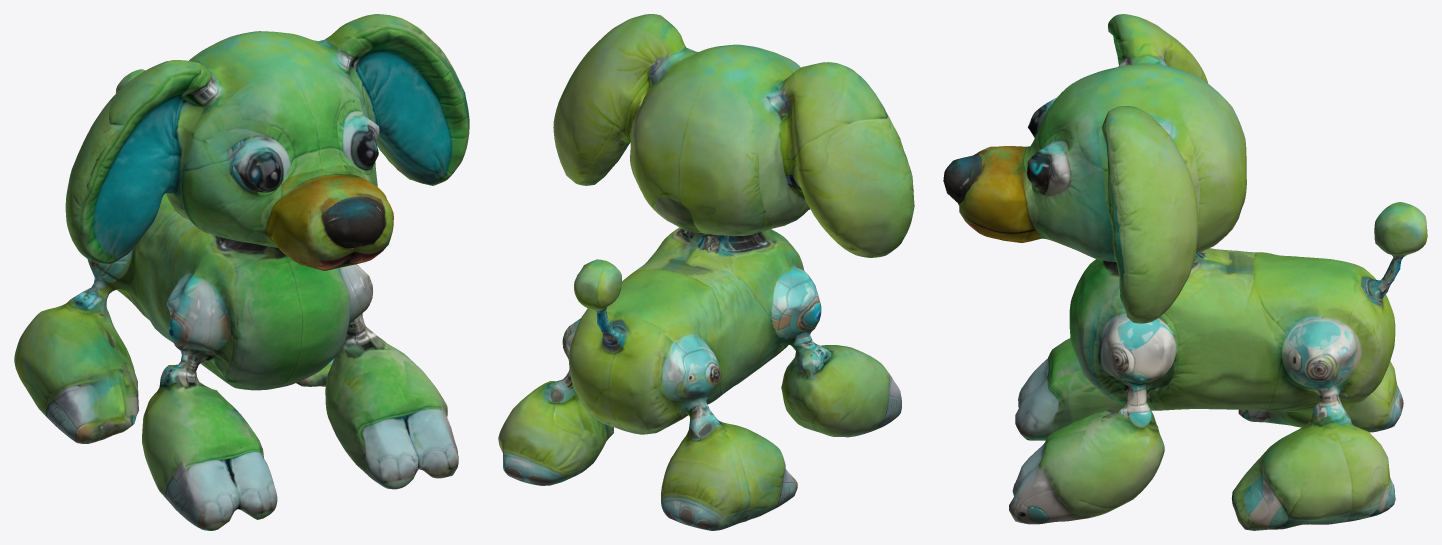
3 views of the same model, side by side, from view 1: azimuth 30°, elevation 25°; view 2: azimuth 150°, elevation 25°; view 3: azimuth 270°, elevation 25° (orthographic). The views are drawn at different scales.
Size of the model in its own units: 1.07 by 1.11 by 1.2.
Materials: 1 (1 with a texture image).
